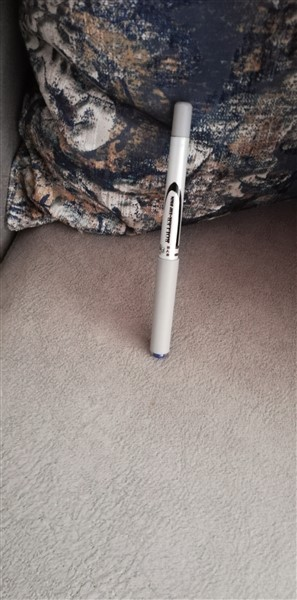pilot kalem: (144, 97, 201, 363)
